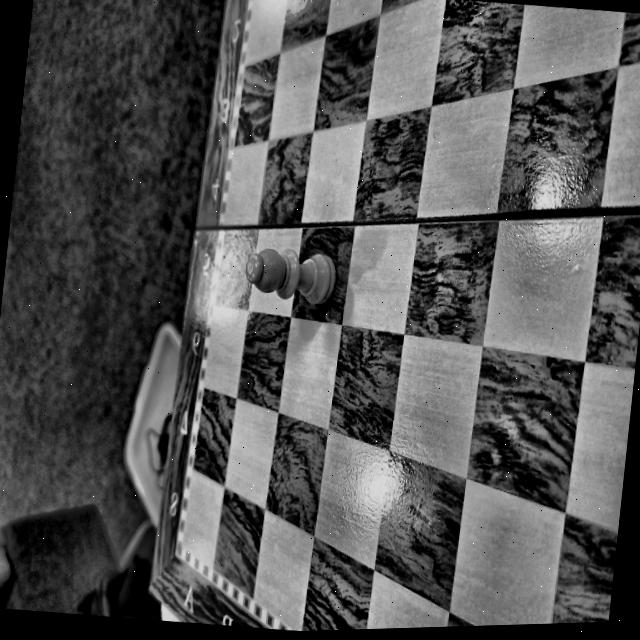white-bishop: (244, 248, 334, 304)
